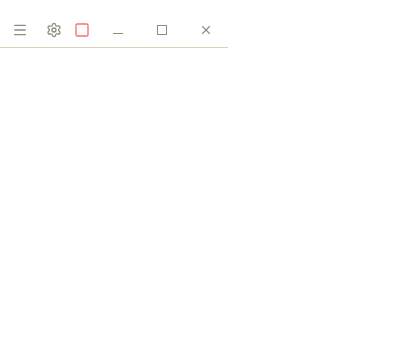
TitleBar — Hamburger menu › tb-12: hovering View section reveals zoom controls
Step 1. Click the button named "open menu" → x=20, y=30, box [6, 16, 34, 44]
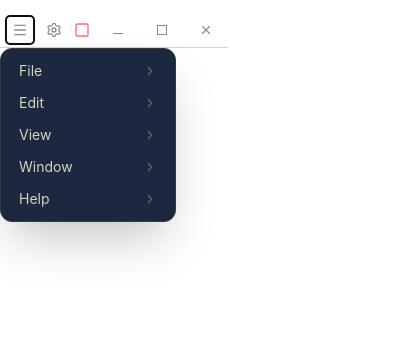
Step 2. Hover over the button "View" → x=88, y=134, box [7, 118, 169, 150]
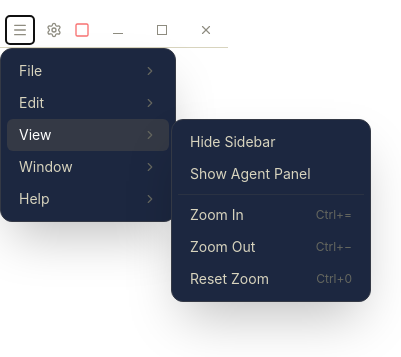
Check: the text "Zoom In" is shown, box [190, 204, 244, 224]
Check: the text "Zoom Out" is shown, box [190, 236, 255, 256]
Check: the text "Reset Zoom" is shown, box [190, 268, 269, 288]
